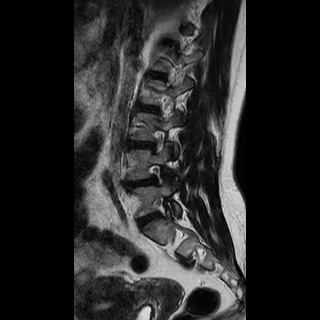RFS0: (144, 123, 173, 158), (147, 192, 177, 224), (144, 160, 170, 192)
